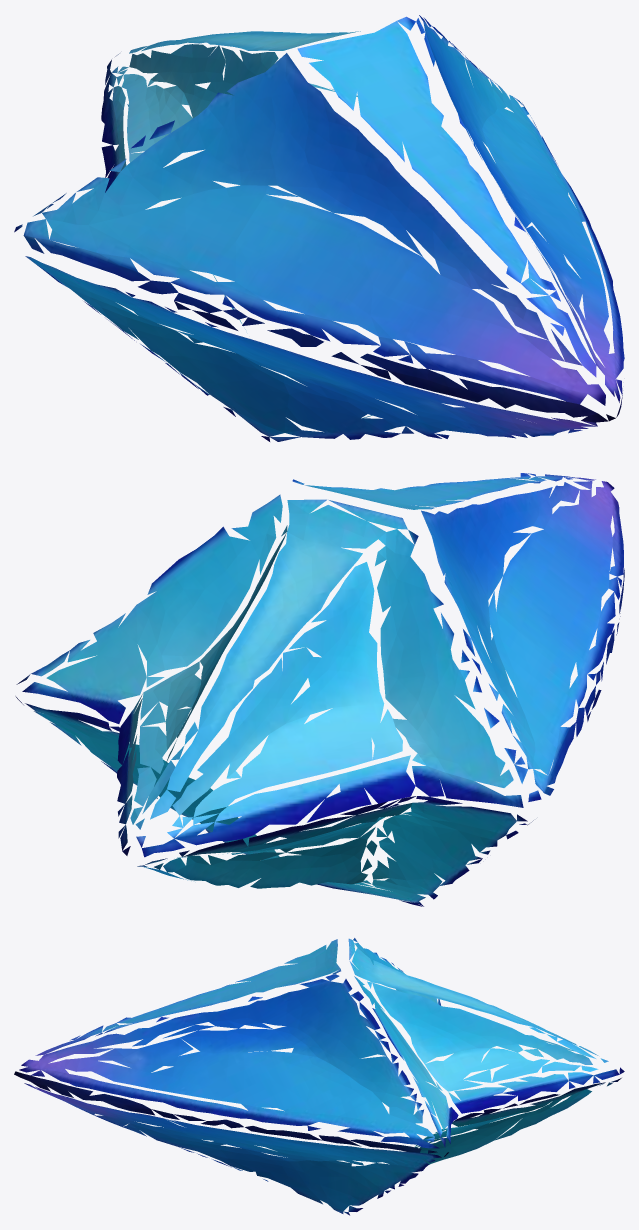
3 views of the same model, one above another, from view 1: azimuth 30°, elevation 25°; view 2: azimuth 150°, elevation 25°; view 3: azimuth 270°, elevation 25° (orthographic). The views are drawn at different scales.
Visible parts, largest first — view 1: world.001; view 2: world.001; view 3: world.001.
Part boxes in pixels (x1,y1,x2,y2): world.001: [14, 15, 624, 441]; world.001: [15, 473, 624, 906]; world.001: [14, 938, 624, 1215].
Bounding box in the file's own units: 0.5995 × 0.4391 × 0.9927.
Materials: 1 (1 with a texture image).
